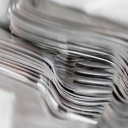Fork: (1, 24, 128, 111)
